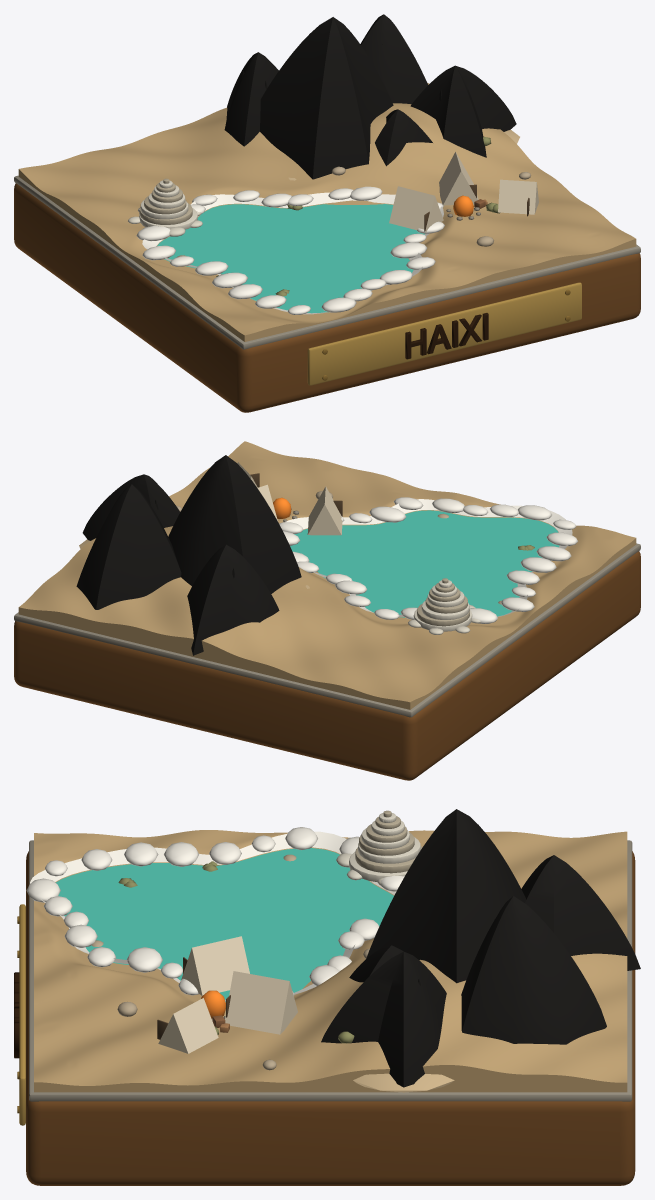
The model's file is haixi-source.glb.
The picture shows the model from 3 angles, top to bottom: view 1: azimuth 30°, elevation 25°; view 2: azimuth 150°, elevation 25°; view 3: azimuth 270°, elevation 25°; orthographic projection. The views are drawn at different scales.
Visible parts, largest first — view 1: Ground, Base, Mountains, Lake, Crust, Camp, Spiral, Props; view 2: Ground, Base, Mountains, Lake, Crust, Spiral, Camp; view 3: Ground, Base, Mountains, Lake, Crust, Camp, Spiral, Props.
Part boxes in pixels (<box>): Ground: <box>14,83,640,349</box>; Base: <box>14,183,640,412</box>; Mountains: <box>224,14,519,180</box>; Lake: <box>157,204,424,313</box>; Crust: <box>136,186,444,314</box>; Camp: <box>389,152,538,232</box>; Spiral: <box>128,178,202,236</box>; Props: <box>177,136,530,296</box>; Ground: <box>14,441,640,717</box>; Base: <box>14,551,640,780</box>; Mountains: <box>76,455,309,655</box>; Lake: <box>290,510,559,617</box>; Crust: <box>279,497,577,623</box>; Spiral: <box>408,578,480,634</box>; Camp: <box>237,462,342,535</box>; Ground: <box>29,830,632,1101</box>; Base: <box>14,851,635,1185</box>; Mountains: <box>321,809,640,1092</box>; Lake: <box>55,848,393,1001</box>; Crust: <box>26,827,404,1001</box>; Camp: <box>157,936,297,1053</box>; Spiral: <box>336,810,422,885</box>; Props: <box>91,854,369,1070</box>.
Size of the model in its own units: 0.3119 by 0.156 by 0.3087.
